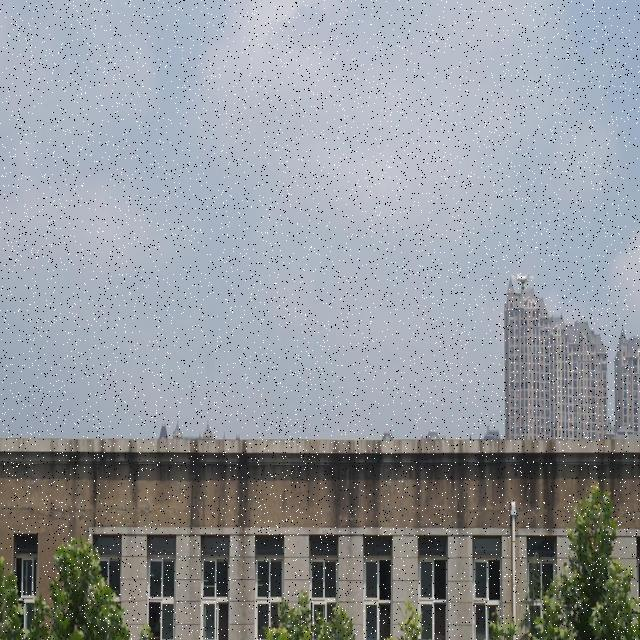UAV: (510, 273, 534, 292)
